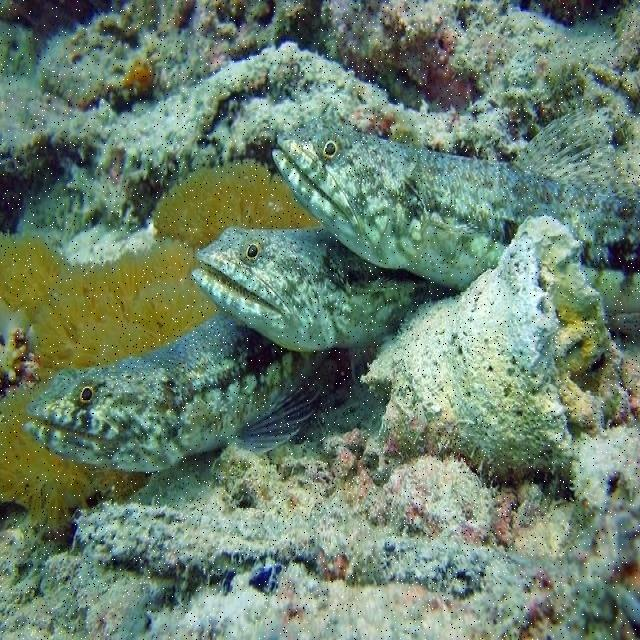fish: (269, 104, 640, 320), (26, 312, 339, 472), (192, 225, 458, 349)
reefs: (0, 164, 323, 531)
sea-floor: (4, 215, 640, 640)
